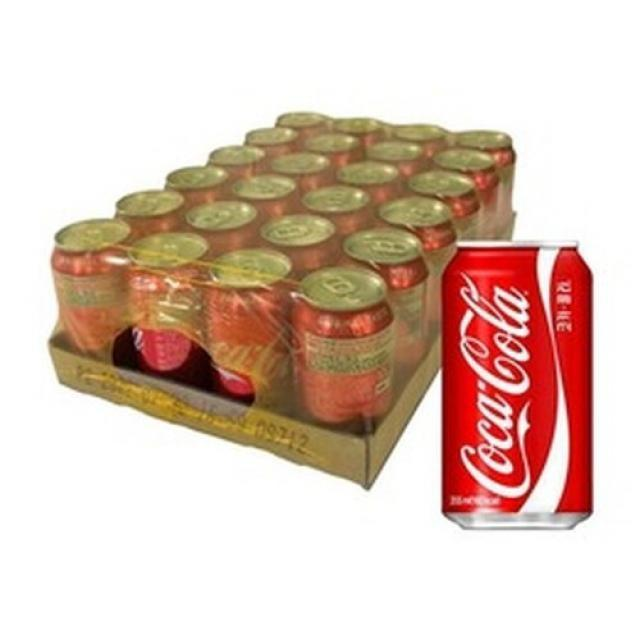coca-cola: (439, 233, 599, 537), (290, 268, 396, 440), (132, 232, 208, 398), (211, 255, 291, 412)
